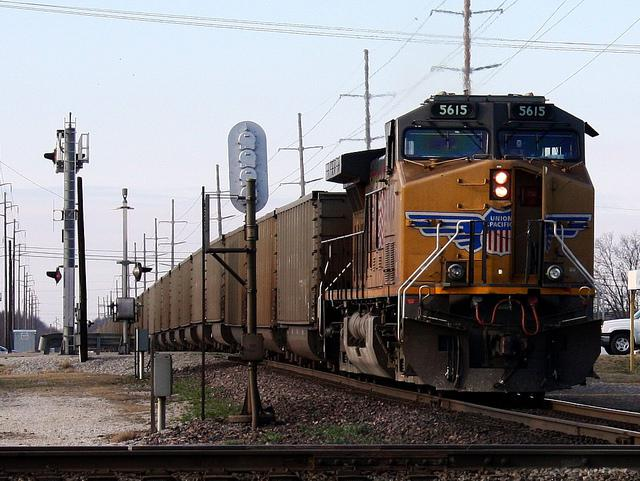Train: (139, 93, 602, 393)
